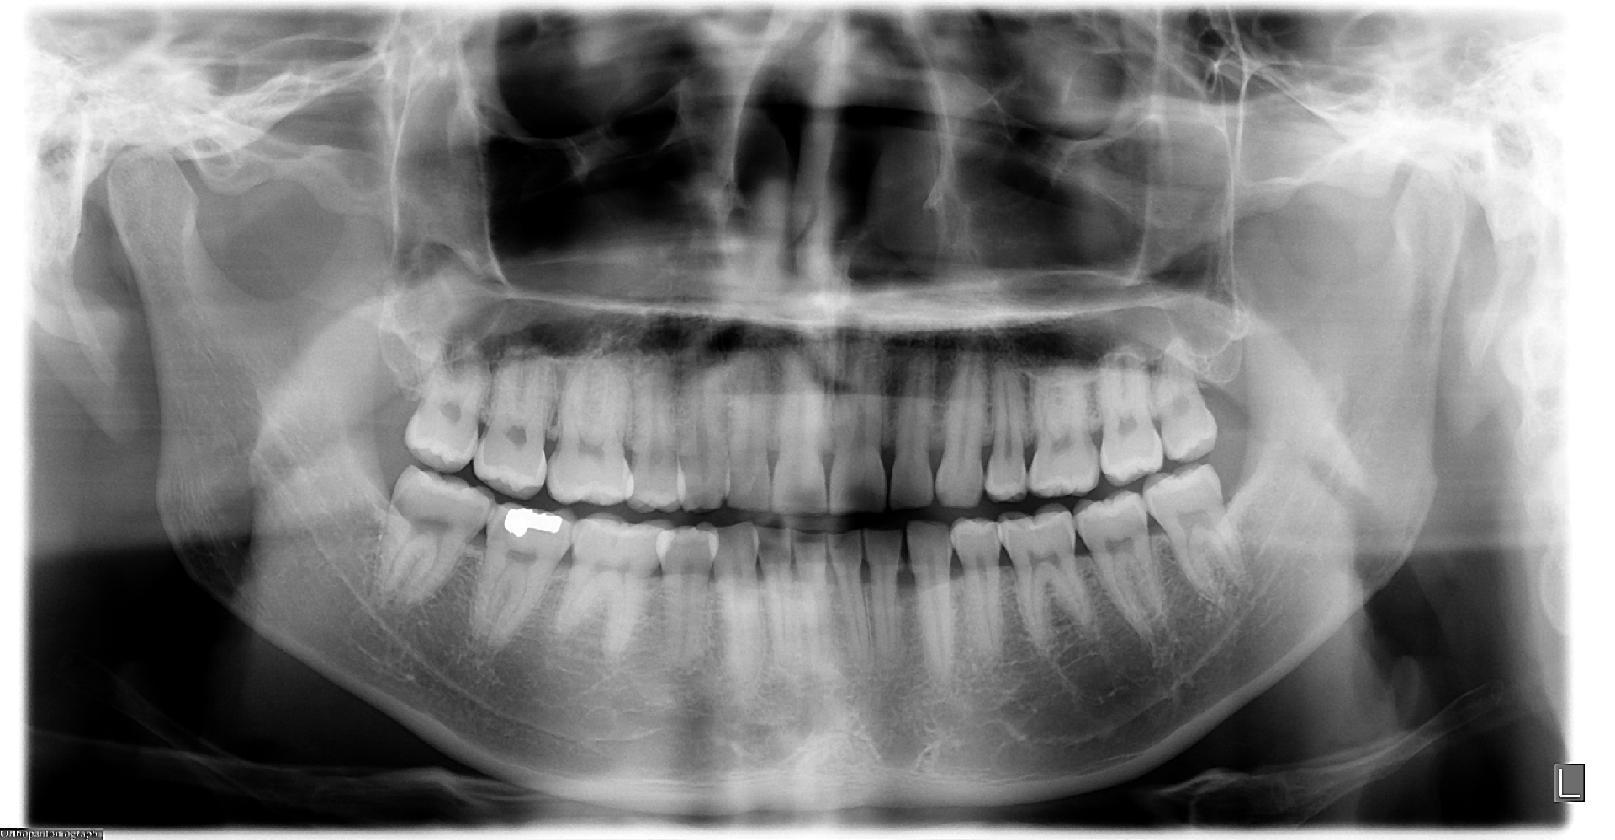Erupted: (1142, 467, 1263, 612), (379, 468, 495, 620)
